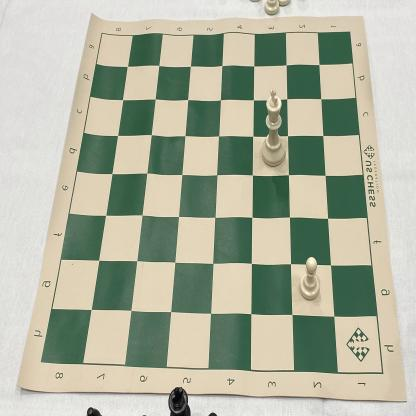white-king: (260, 86, 288, 170)
white-pawn: (296, 251, 324, 305)
